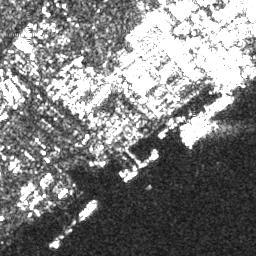ship: (76, 200, 97, 223), (124, 169, 137, 185)
